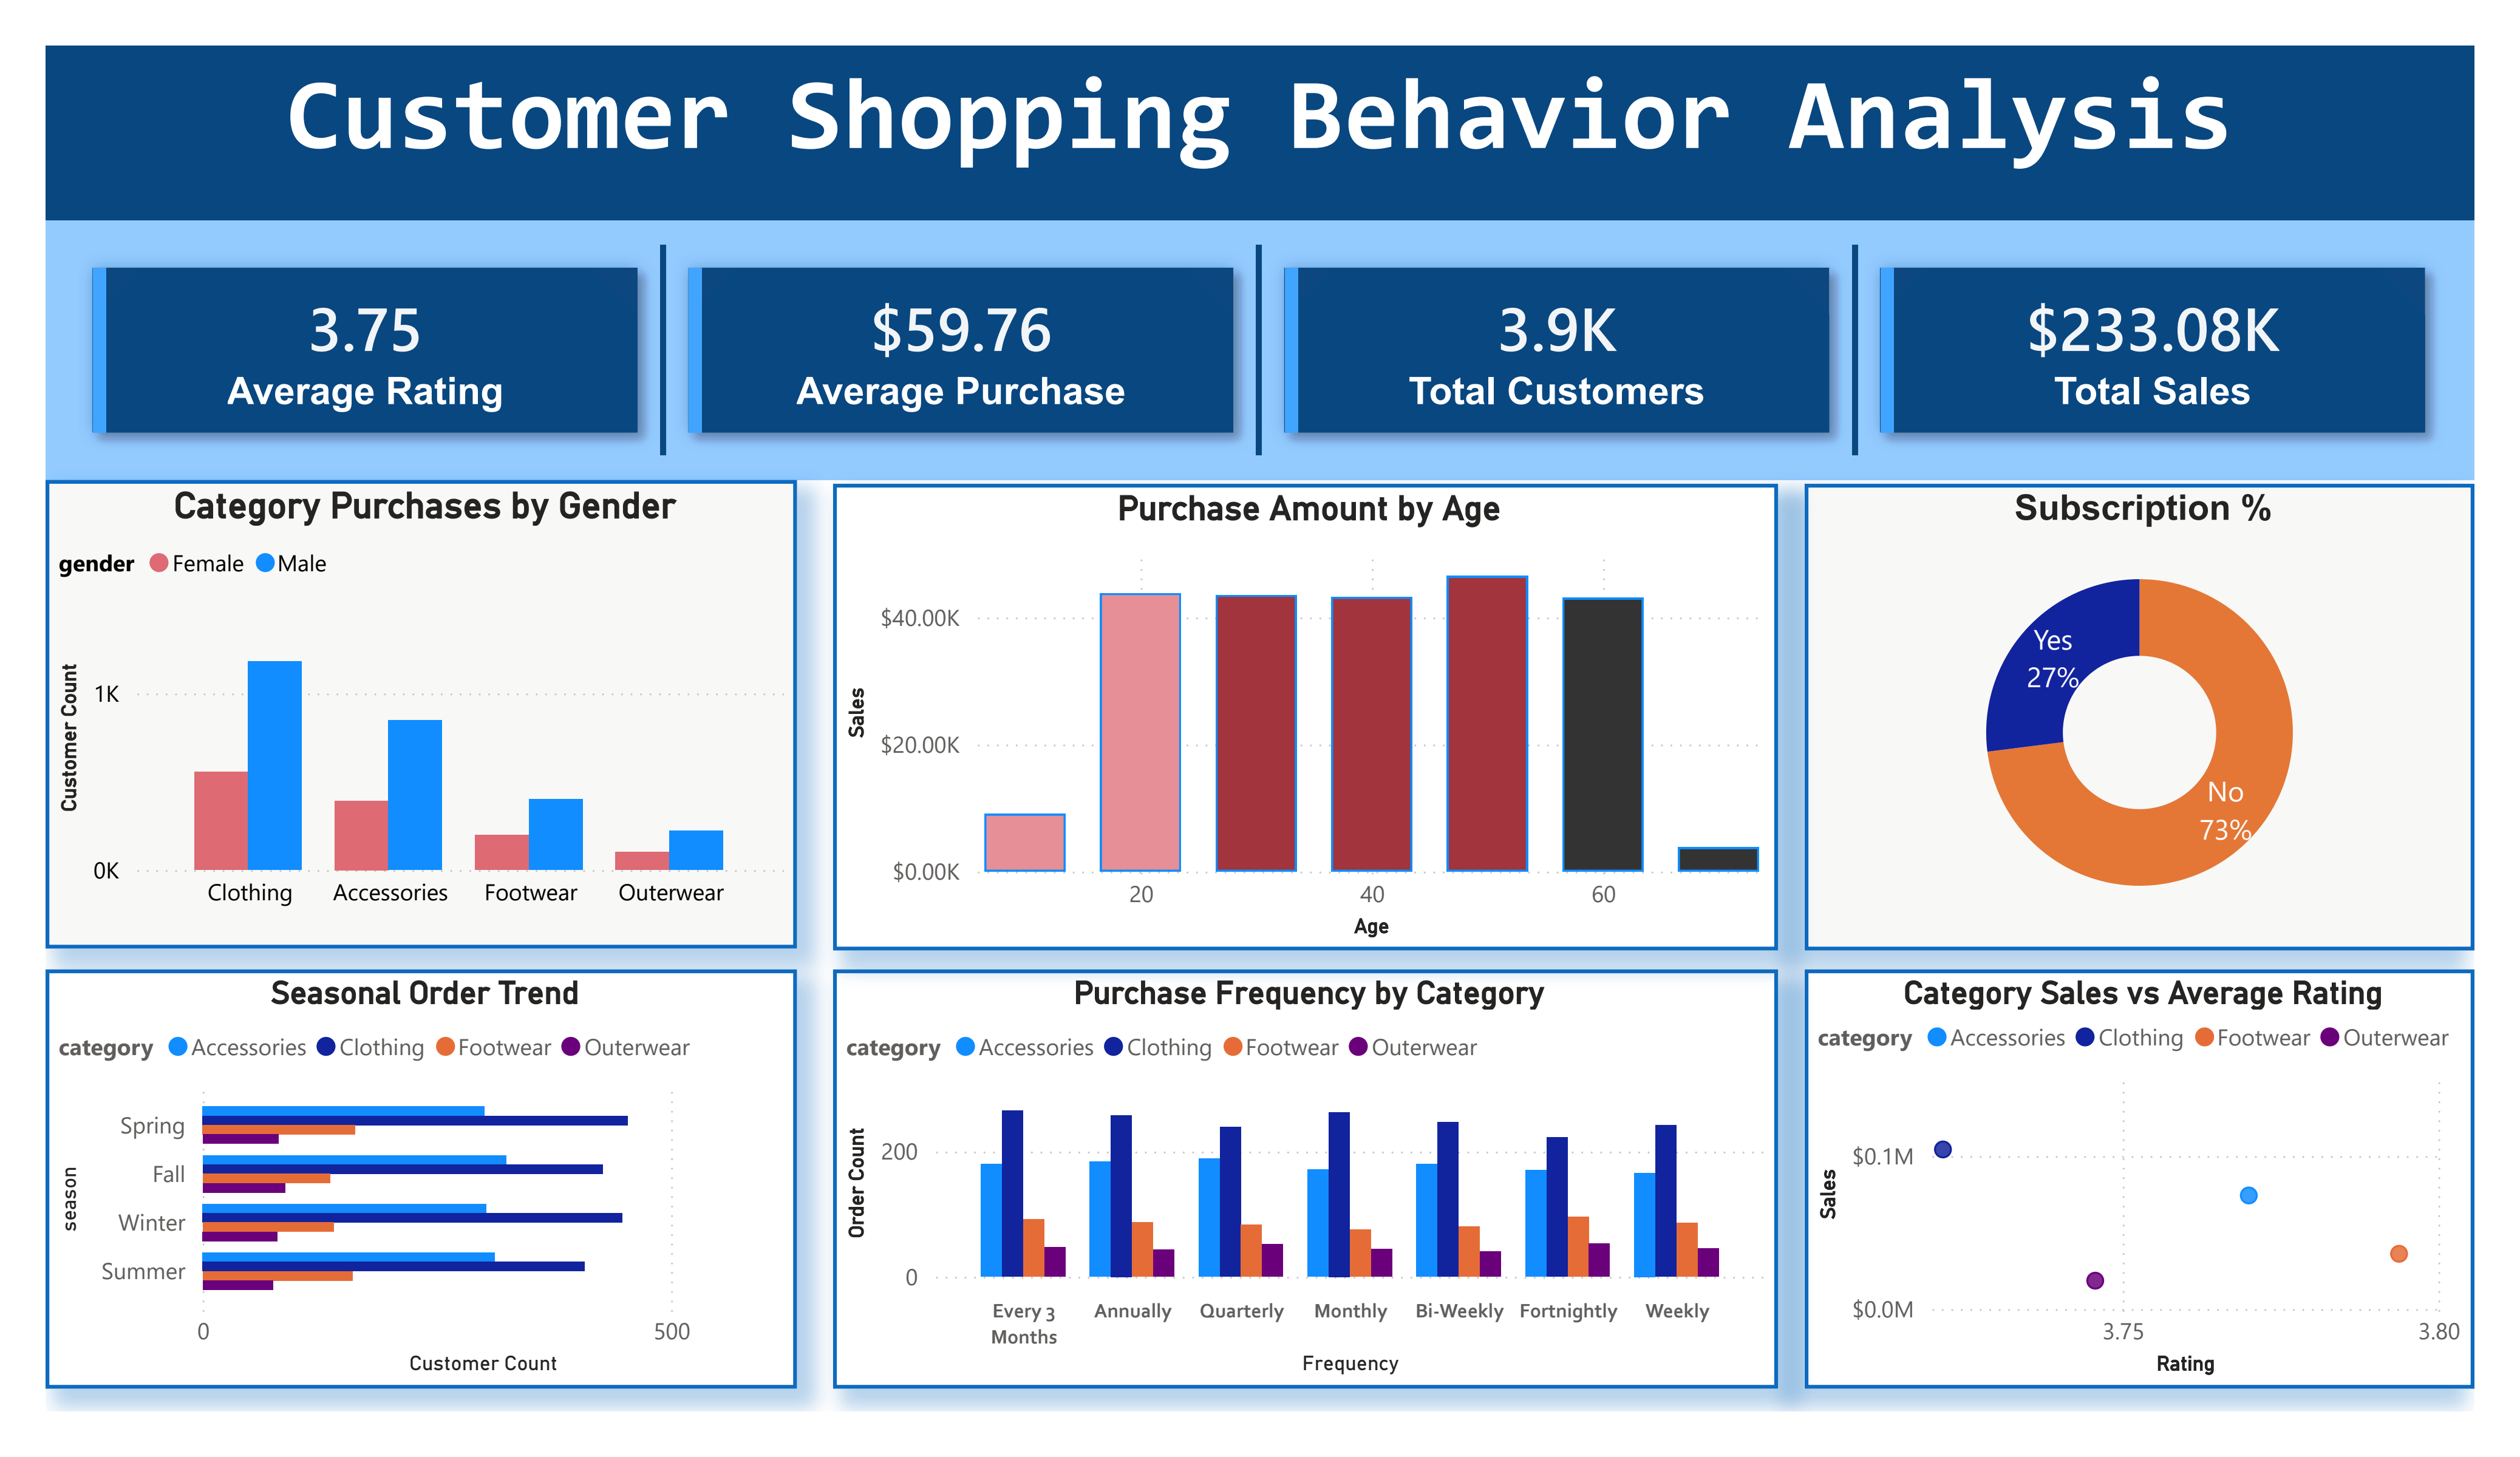

This screenshot's page, from the dashboard's own definition file:
{"tool":"powerbi","page":{"name":"Page 1","canvas":[1280,720],"ordinal":0},"visuals":[{"type":"cardVisual","fields":{"Data":["Sheet1.Average Rating","Sheet1.Average Purchase","Sheet1.Number Of Customers","Sheet1.Total Sales"]},"box":[0,92,1280,137.3],"z":0},{"type":"pieChart","title":"Subscription %","fields":{"Category":["Sheet1.subscription_status"],"Y":["CountNonNull(Sheet1.customer_id)"]},"box":[965.1,230.2,315.1,247.7],"z":1000},{"type":"scatterChart","title":"Category Sales vs Average Rating","fields":{"Category":["Sheet1.category"],"Y":["Sum(Sheet1.purchase_amount)"],"X":["Sheet1.Average Rating"],"Series":["Sheet1.category"]},"box":[965.1,487.2,315.1,220.9],"z":2000},{"type":"clusteredColumnChart","title":"Category Purchases by Gender","fields":{"Category":["Sheet1.category"],"Y":["CountNonNull(Sheet1.customer_id)"],"Series":["Sheet1.gender"]},"box":[201.2,230.2,317.4,246.5],"z":3000},{"type":"textbox","box":[0,0,1280,92],"z":4000},{"type":"clusteredBarChart","title":"Seasonal Order Trend","fields":{"Y":["CountNonNull(Sheet1.customer_id)"],"Category":["Sheet1.season"],"Series":["Sheet1.category"]},"box":[201.2,487.2,317.4,220.9],"z":5000},{"type":"clusteredColumnChart","title":"Purchase Frequency by Category","fields":{"Series":["Sheet1.category"],"Category":["Sheet1.frequency_of_purchases"],"Y":["Count(Sheet1.customer_id)"]},"box":[529.1,487.2,423.3,220.9],"z":6000},{"type":"clusteredColumnChart","title":"Purchase Amount by Age","fields":{"Category":["Sheet1.age (bins)"],"Y":["Sum(Sheet1.purchase_amount)"]},"box":[529.1,230.2,423.3,247.7],"z":7000},{"type":"shape","box":[0,229,190,477],"z":8000},{"type":"advancedSlicerVisual","title":"GENDER","fields":{"Values":["Sheet1.gender"]},"box":[23.3,246.5,154.7,94.2],"z":9000},{"type":"advancedSlicerVisual","title":"SUBSCRIPTION","fields":{"Values":["Sheet1.subscription_status"]},"box":[23.3,354.7,154.7,89.5],"z":10000},{"type":"advancedSlicerVisual","title":"CATEGORY","fields":{"Values":["Sheet1.category"]},"box":[23.3,458.1,154.7,231.4],"z":11000}]}

Visuals, with their boxes on the page's 1280x720 design canvas (x1, y1, x2, y2). These are canvas units, not pixel positions in the 2520x1457 screenshot, which may show the page scaled, cropped or inside an application window:
cardVisual - Sheet1.Average Rating x Sheet1.Average Purchase: locate(0, 92, 1280, 229)
"Subscription %" pieChart: locate(965, 230, 1280, 478)
"Category Sales vs Average Rating" scatterChart: locate(965, 487, 1280, 708)
"Category Purchases by Gender" clusteredColumnChart: locate(201, 230, 519, 477)
textbox: locate(0, 0, 1280, 92)
"Seasonal Order Trend" clusteredBarChart: locate(201, 487, 519, 708)
"Purchase Frequency by Category" clusteredColumnChart: locate(529, 487, 952, 708)
"Purchase Amount by Age" clusteredColumnChart: locate(529, 230, 952, 478)
shape: locate(0, 229, 190, 706)
"GENDER" advancedSlicerVisual: locate(23, 246, 178, 341)
"SUBSCRIPTION" advancedSlicerVisual: locate(23, 355, 178, 444)
"CATEGORY" advancedSlicerVisual: locate(23, 458, 178, 690)
